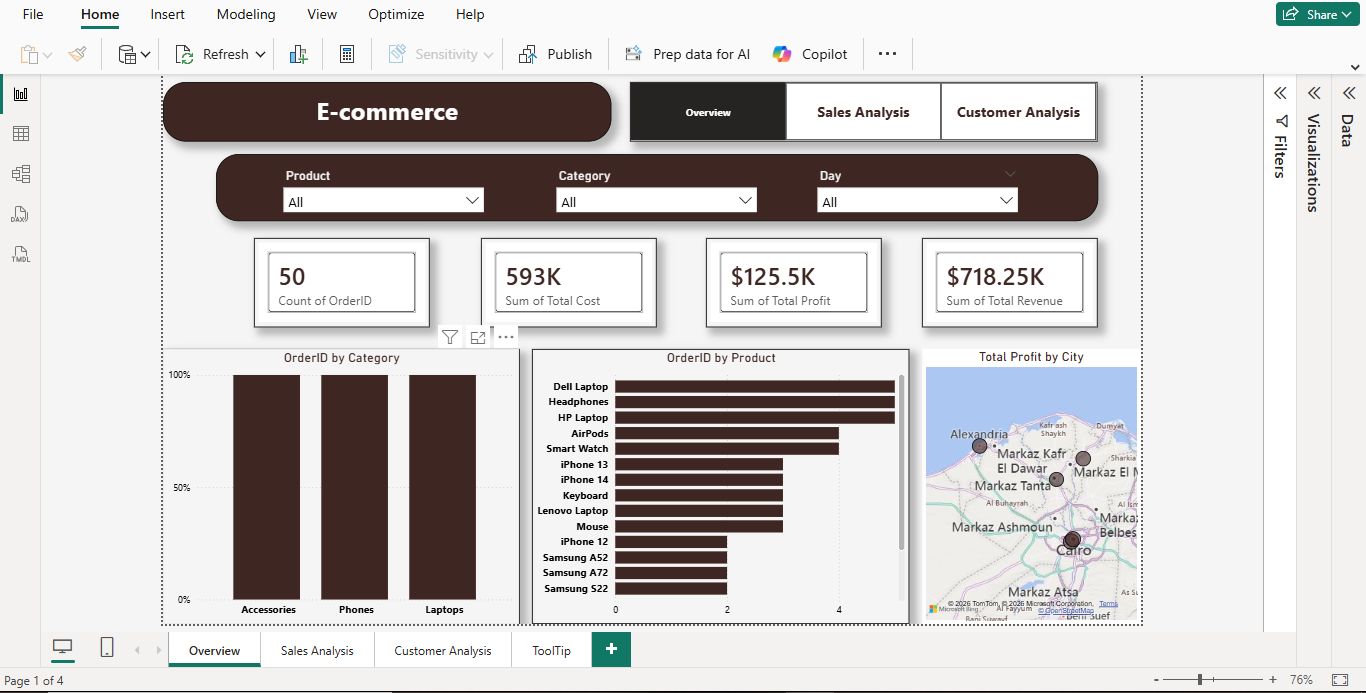

This screenshot's page, from the dashboard's own definition file:
{"tool":"powerbi","page":{"name":"Overview","canvas":[1280,720],"ordinal":0},"visuals":[{"type":"textbox","box":[0,10.6,587.1,77.6],"z":0},{"type":"textbox","box":[69.1,105.1,1154.9,87.8],"z":1000},{"type":"slicer","fields":{"Values":["Table1.OrderDate.Variation.Date Hierarchy.Day"]},"box":[846.7,118.1,282.2,63.4],"z":2000},{"type":"slicer","fields":{"Values":["Table1.Category"]},"box":[505.4,118.1,282.2,63.4],"z":3000},{"type":"slicer","fields":{"Values":["Table1.Product"]},"box":[148.3,118.1,282.2,63.4],"z":4000},{"type":"cardVisual","fields":{"Data":["Sum(Table1.Total Revenue)"]},"box":[993.6,214.6,230.4,116.6],"z":5000},{"type":"cardVisual","fields":{"Data":["Sum(Table1.Total Profit)"]},"box":[711.4,214.6,230.4,116.6],"z":6000},{"type":"cardVisual","fields":{"Data":["Sum(Table1.Total Cost)"]},"box":[416.2,214.6,230.4,116.6],"z":7000},{"type":"map","title":" Total Profit by City","fields":{"Category":["Table1.City"],"Size":["Sum(Table1.Total Profit)"]},"box":[993.6,360,286.6,360],"z":8000},{"type":"barChart","title":" OrderID by Product","fields":{"Y":["CountNonNull(Table1.OrderID)"],"Category":["Table1.Product"]},"box":[482.4,360,493.9,360],"z":9000},{"type":"cardVisual","fields":{"Data":["CountNonNull(Table1.OrderID)"]},"box":[119.5,214.6,230.4,116.6],"z":10000},{"type":"hundredPercentStackedColumnChart","title":" OrderID by Category","fields":{"Category":["Table1.Category"],"Y":["CountNonNull(Table1.OrderID)"]},"box":[0,360,466.6,360],"z":11000},{"type":"pageNavigator","box":[611.8,10.6,611.8,77.6],"z":12000}]}

Visuals, with their boxes on the page's 1280x720 design canvas (x1, y1, x2, y2). These are canvas units, not pixel positions in the 1366x693 screenshot, which may show the page scaled, cropped or inside an application window:
textbox: (x1=0, y1=11, x2=587, y2=88)
textbox: (x1=69, y1=105, x2=1224, y2=193)
slicer - Table1.OrderDate.Variation.Date Hierarchy.Day: (x1=847, y1=118, x2=1129, y2=182)
slicer - Table1.Category: (x1=505, y1=118, x2=788, y2=182)
slicer - Table1.Product: (x1=148, y1=118, x2=430, y2=182)
cardVisual - Sum(Table1.Total Revenue): (x1=994, y1=215, x2=1224, y2=331)
cardVisual - Sum(Table1.Total Profit): (x1=711, y1=215, x2=942, y2=331)
cardVisual - Sum(Table1.Total Cost): (x1=416, y1=215, x2=647, y2=331)
" Total Profit by City" map: (x1=994, y1=360, x2=1280, y2=720)
" OrderID by Product" barChart: (x1=482, y1=360, x2=976, y2=720)
cardVisual - CountNonNull(Table1.OrderID): (x1=120, y1=215, x2=350, y2=331)
" OrderID by Category" hundredPercentStackedColumnChart: (x1=0, y1=360, x2=467, y2=720)
pageNavigator: (x1=612, y1=11, x2=1224, y2=88)
